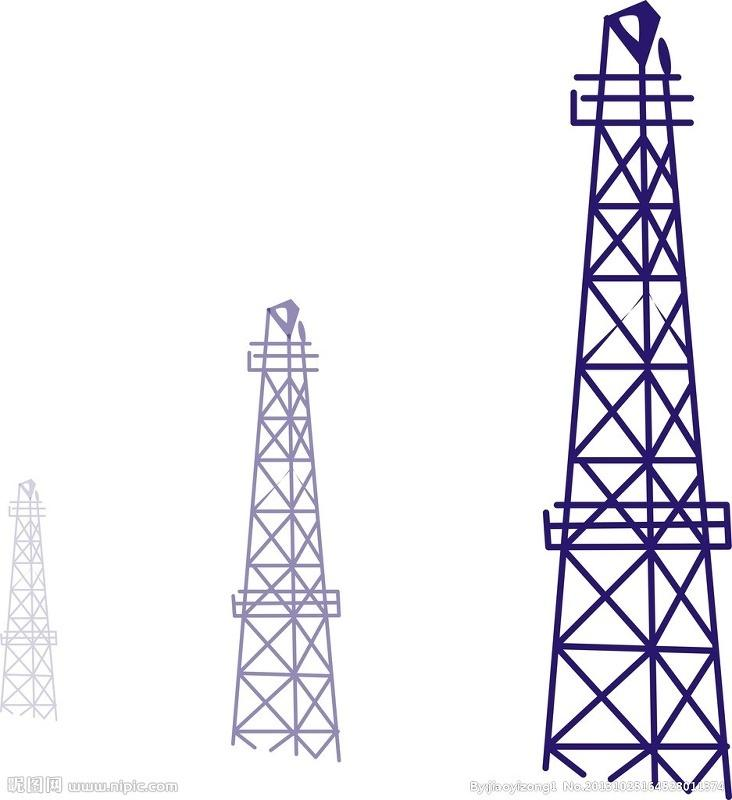power_tower: (527, 5, 729, 782), (219, 279, 346, 762), (1, 463, 55, 721)
